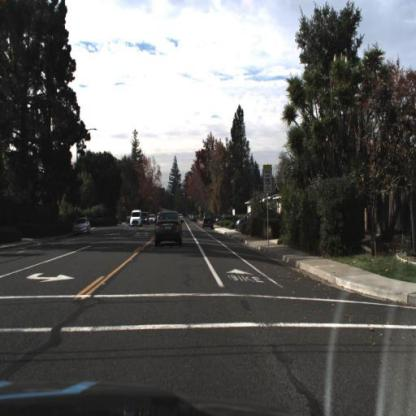car: (155, 210, 184, 248), (73, 217, 93, 238), (203, 211, 217, 230), (130, 210, 144, 228)
